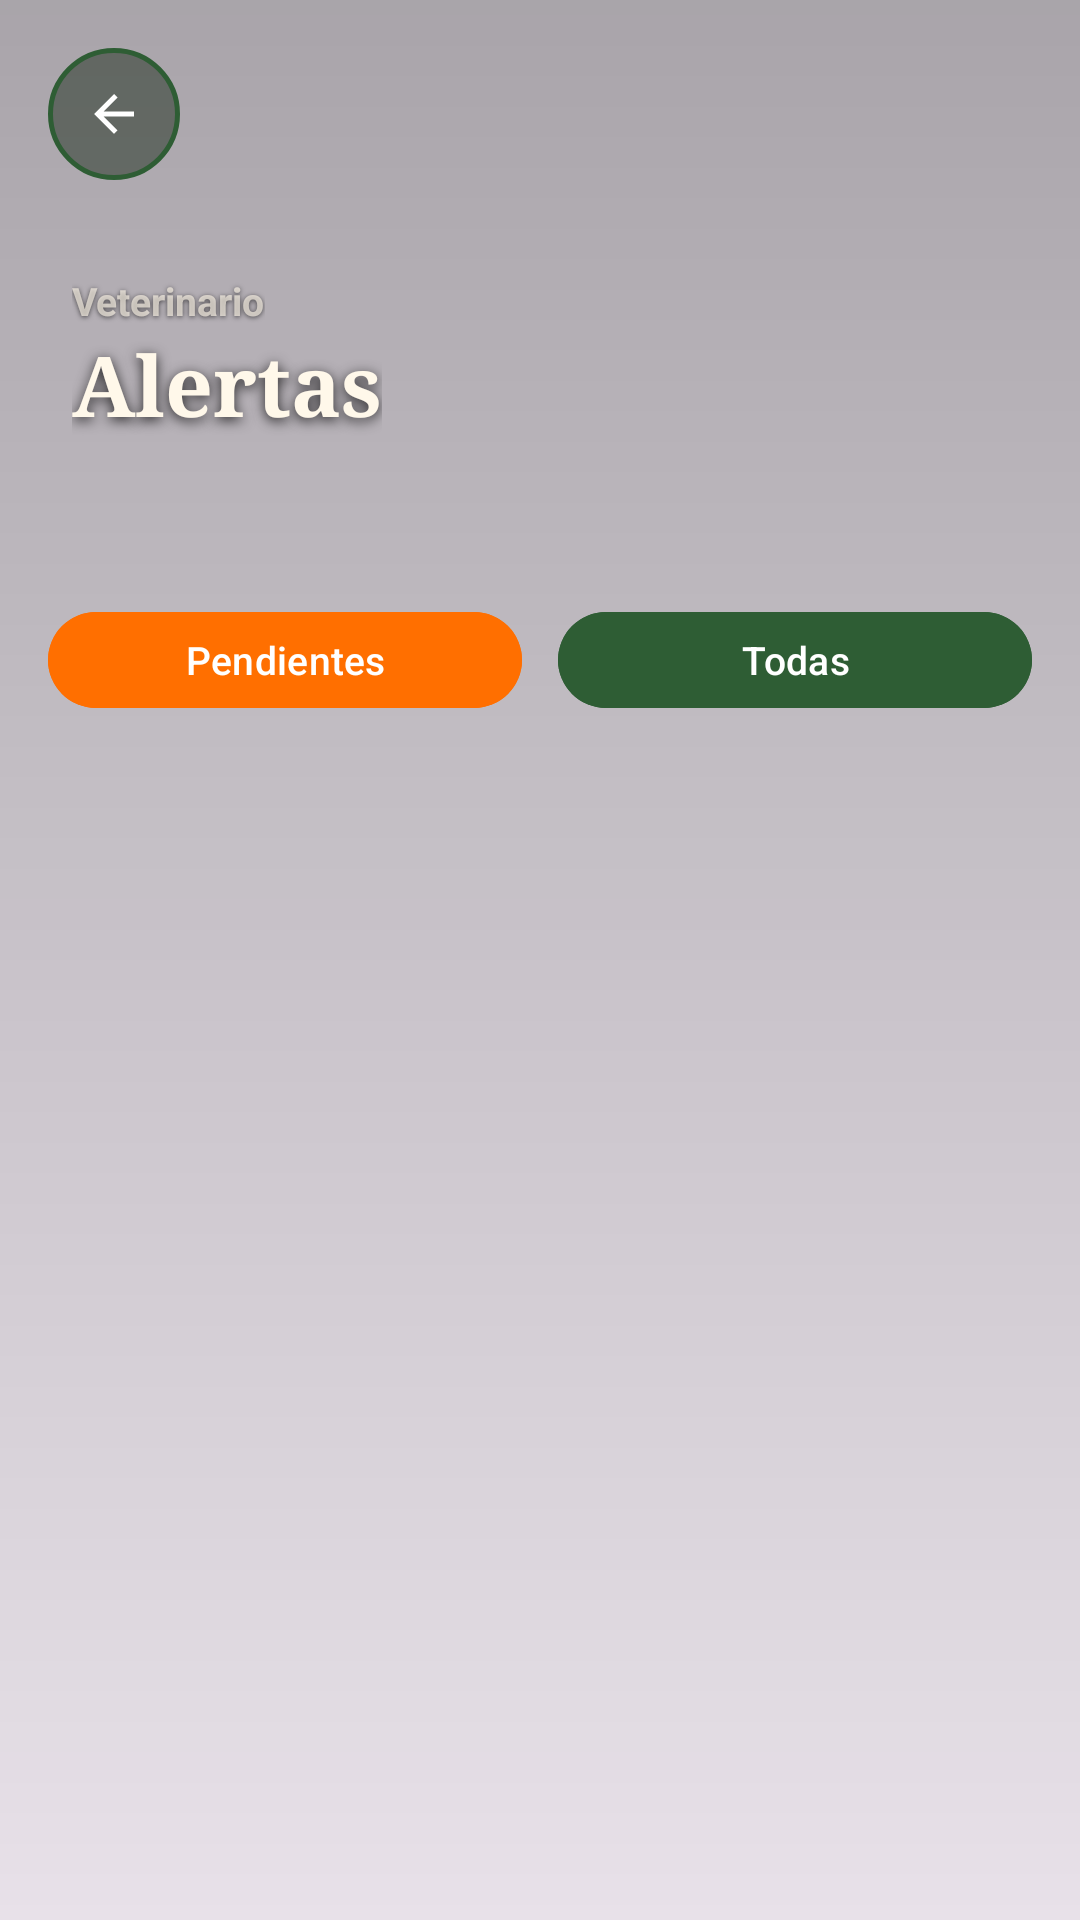

Screen size 1080 × 1920. Icon name, then its center in pixels as [x,y]:
arrow back: [114,114]
